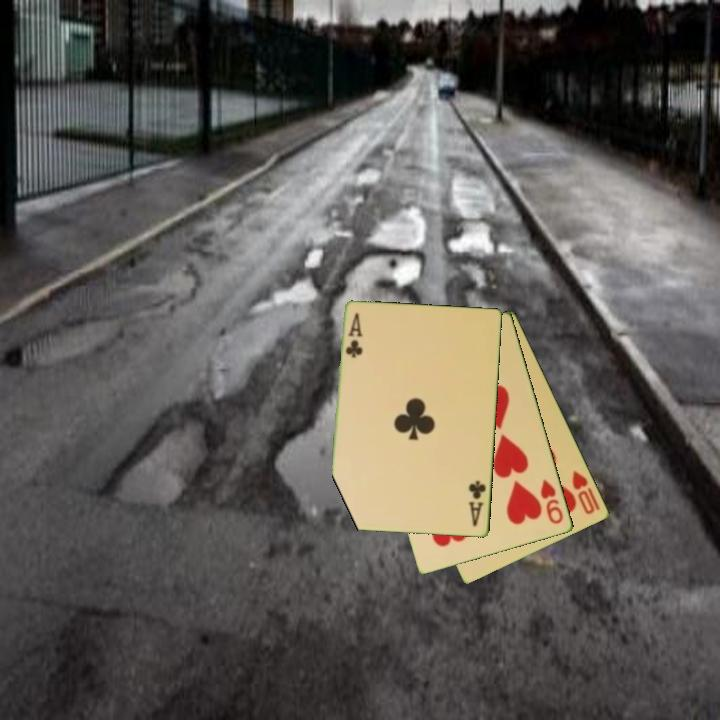10h: (569, 467, 604, 518)
9h: (537, 476, 566, 527)
Ac: (465, 477, 489, 530), (342, 310, 365, 361)
